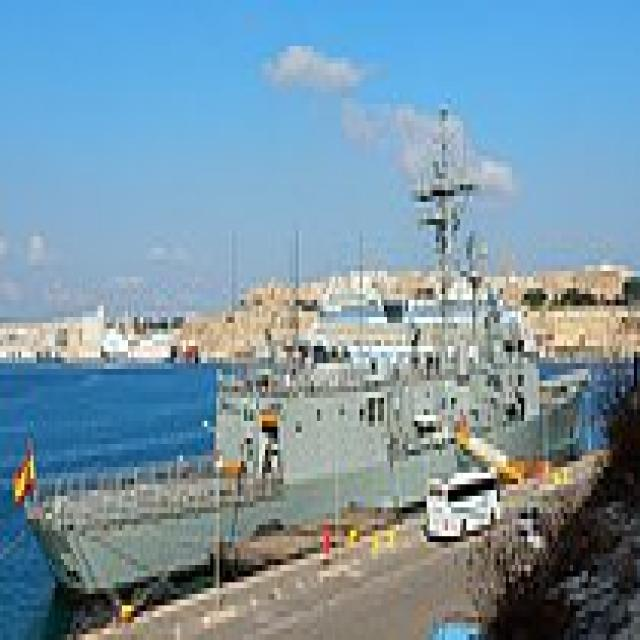Warship: (18, 86, 588, 594)
